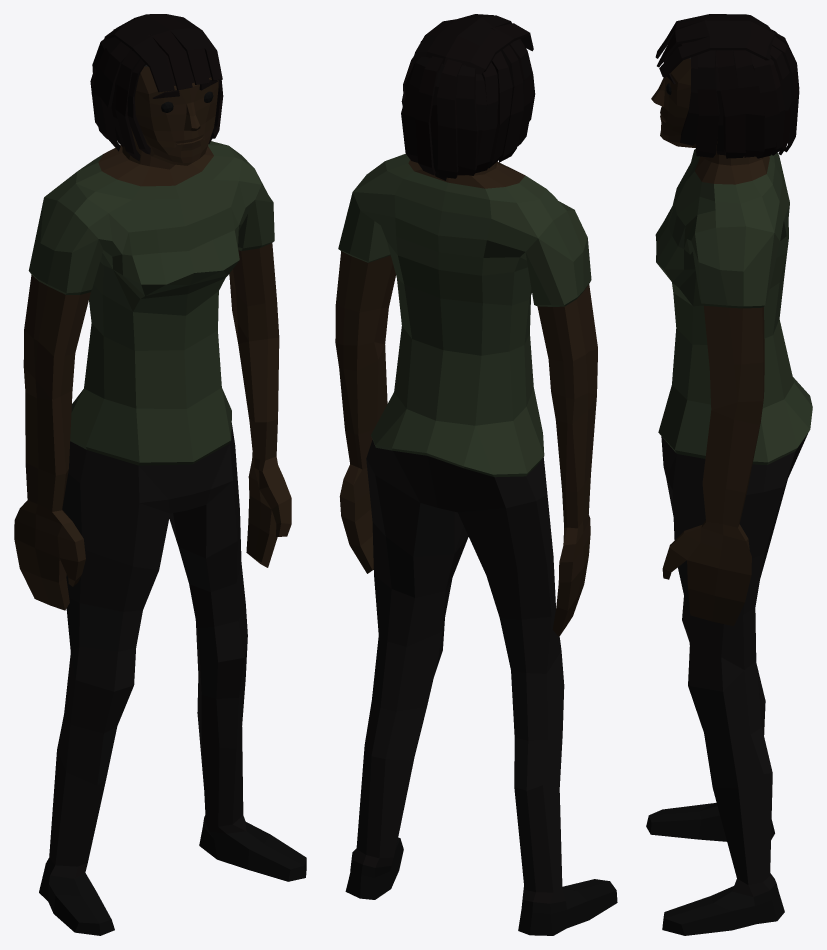
File: Female_Casual.obj
3 views of the same model, side by side, from view 1: azimuth 30°, elevation 25°; view 2: azimuth 150°, elevation 25°; view 3: azimuth 270°, elevation 25° (orthographic). The views are drawn at different scales.
Visible parts, largest first — view 1: Female_Cylinder.005; view 2: Female_Cylinder.005; view 3: Female_Cylinder.005.
Boxes of the visible parts, x1,y1,x2,y2 form: Female_Cylinder.005: [14, 14, 306, 935]; Female_Cylinder.005: [335, 14, 617, 935]; Female_Cylinder.005: [646, 14, 812, 935].
Size of the model in its own units: 1.41 by 4.64 by 0.8189.
